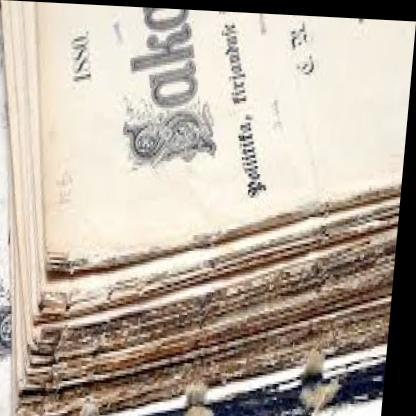Paper: (0, 5, 416, 416)
